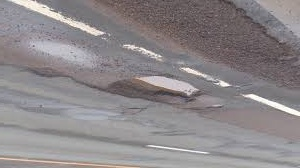pothole: (107, 74, 201, 100), (24, 62, 91, 89), (205, 104, 224, 112)
